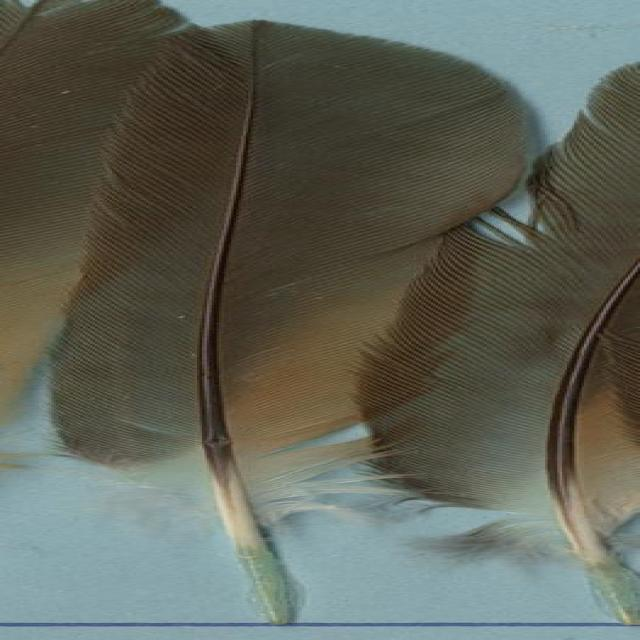feather: (39, 20, 545, 624), (365, 65, 640, 627)
